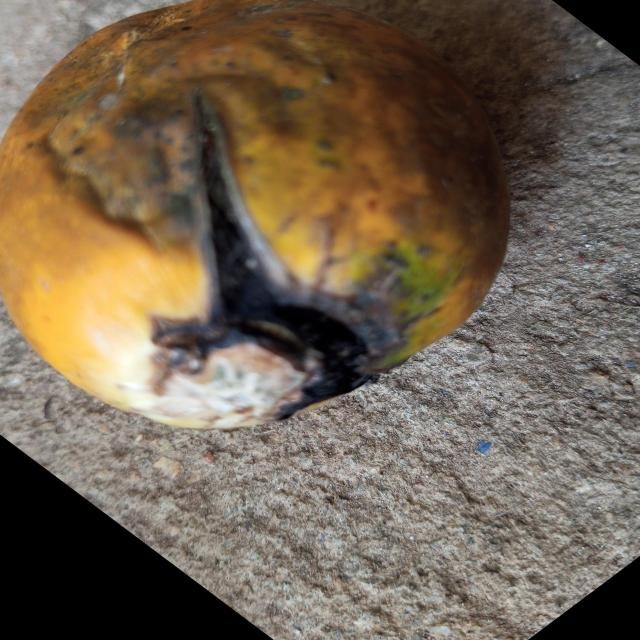damaged: (0, 0, 512, 432)
